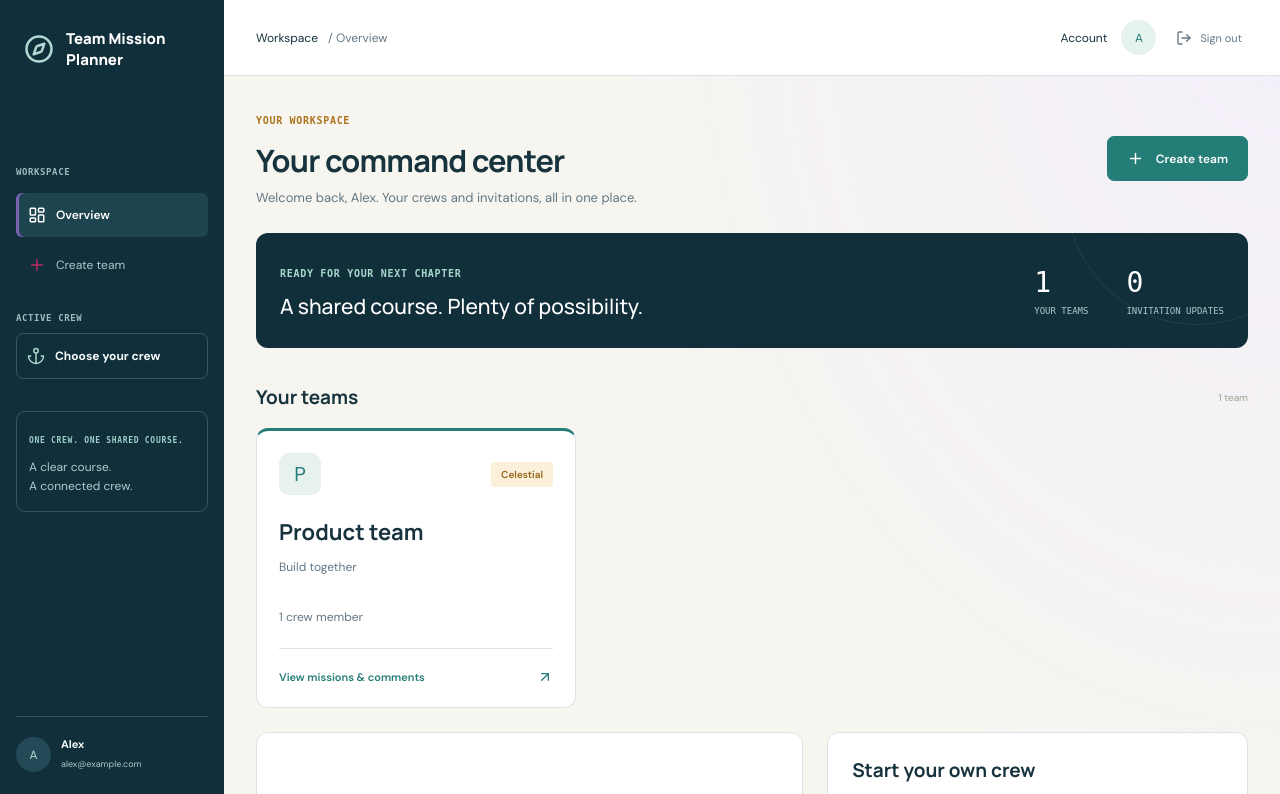
it: Team and invitation screens › lists saved teams and opens their workspace
This screenshot has width=1280, height=794.
Step 1. Click the link "Product team" → (300,474), box [256,428,576,708]
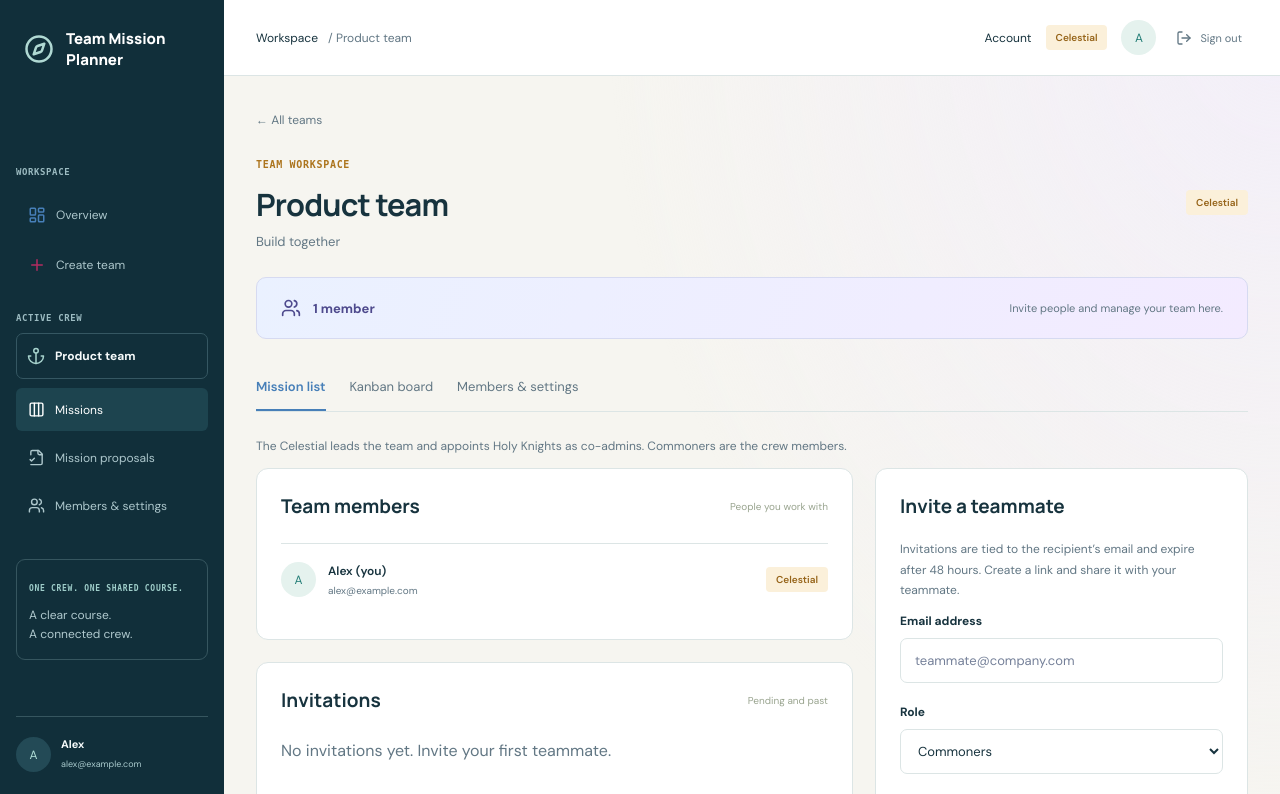
expect the heading "Product team" is shown: met, box [256,183,448,225]
